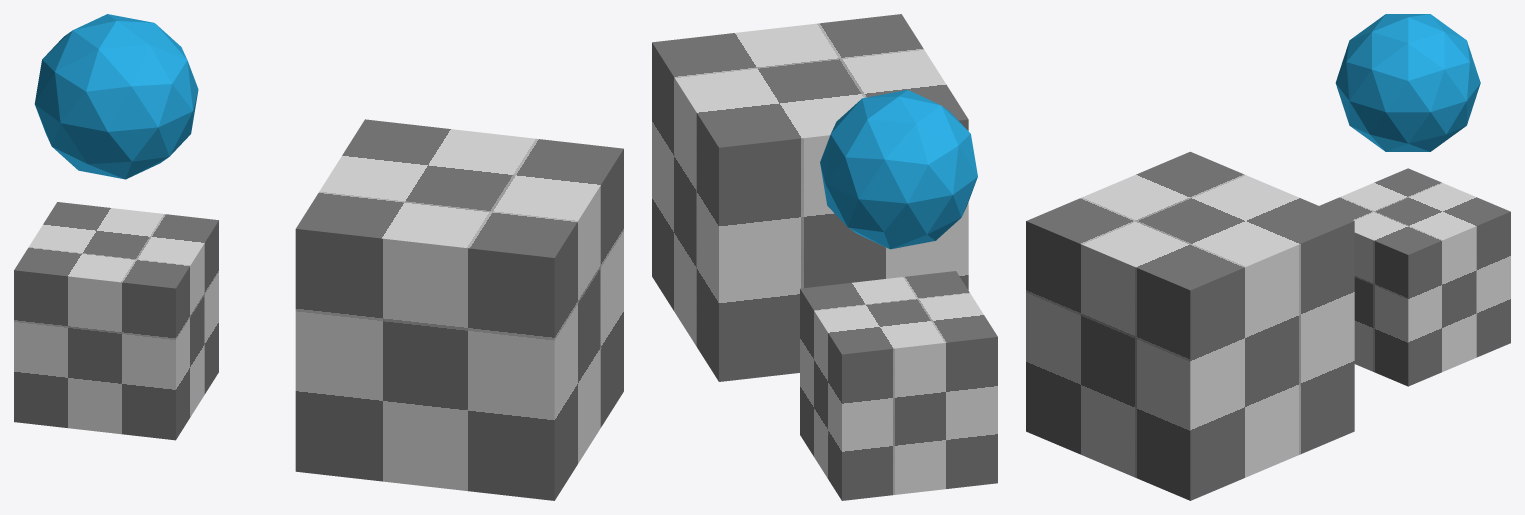
File: test_scene_pixelation.glb
The picture shows the model from 3 angles, left to right: view 1: azimuth 30°, elevation 25°; view 2: azimuth 150°, elevation 25°; view 3: azimuth 270°, elevation 25°; orthographic projection. The views are drawn at different scales.
Parts seen in each view (by area): view 1: Cube.001, Cube, Icosphere; view 2: Cube.001, Cube, Icosphere; view 3: Cube.001, Cube, Icosphere.
Boxes of the visible parts, x1,y1,x2,y2 form: Cube.001: (295, 119, 623, 500); Cube: (14, 202, 218, 440); Icosphere: (34, 14, 198, 179); Cube.001: (652, 14, 968, 381); Cube: (800, 271, 997, 500); Icosphere: (820, 90, 977, 249); Cube.001: (1026, 151, 1354, 500); Cube: (1319, 168, 1510, 386); Icosphere: (1335, 14, 1480, 151).
Size of what is drawn, in the model's own units: 6.68 by 4.96 by 6.68.
Materials: 2 (1 with a texture image).
